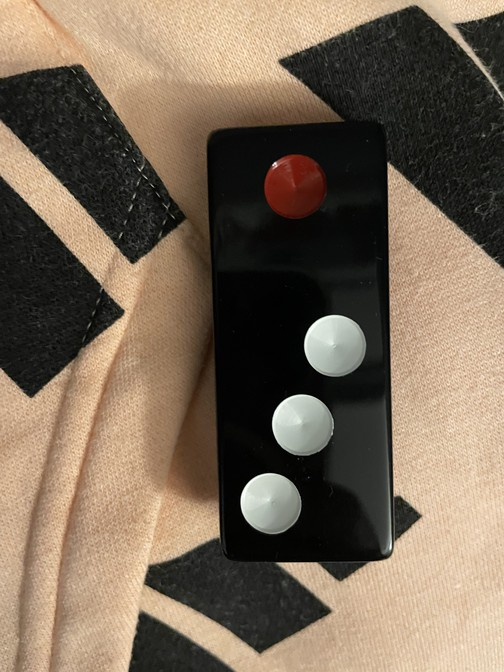goose: (208, 124, 396, 562)
